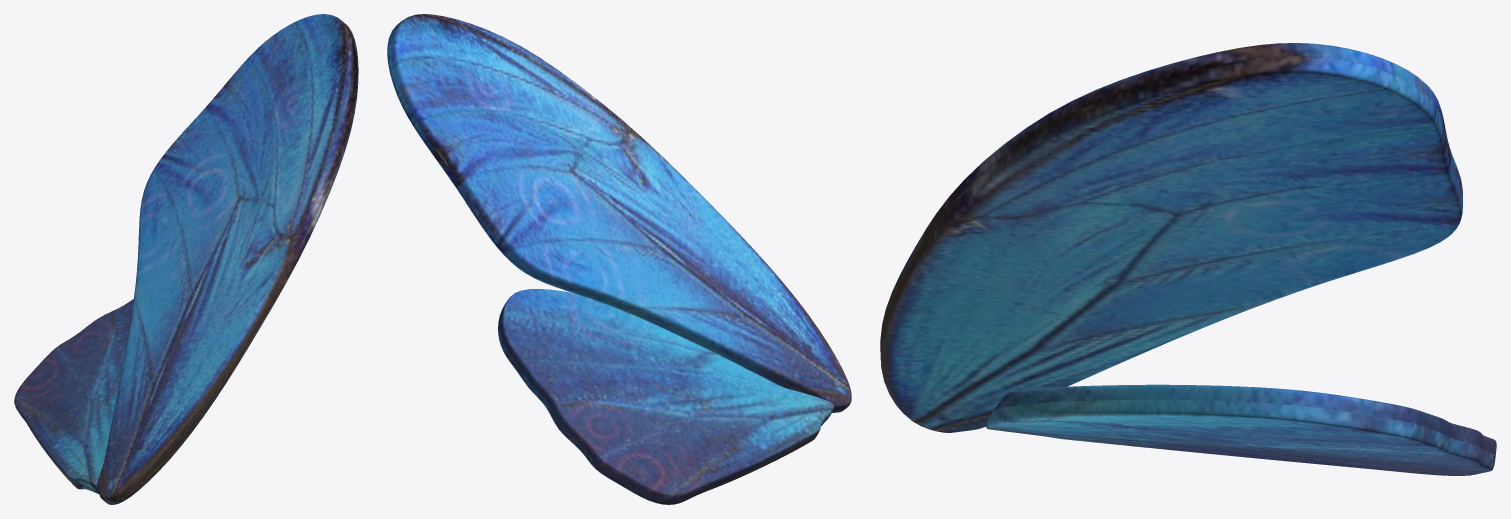
File: AlasIzq.obj
3 views of the same model, side by side, from view 1: azimuth 30°, elevation 25°; view 2: azimuth 150°, elevation 25°; view 3: azimuth 270°, elevation 25° (orthographic). The views are drawn at different scales.
Parts seen in each view (by area): view 1: polySurface13; view 2: polySurface13; view 3: polySurface13.
Part boxes in pixels (<box>): polySurface13: <box>14,14,358,504</box>; polySurface13: <box>387,14,851,504</box>; polySurface13: <box>880,43,1496,475</box>.
Bounding box in the file's own units: 0.5682 × 0.5796 × 0.4578.
Materials: 1 (1 with a texture image).
